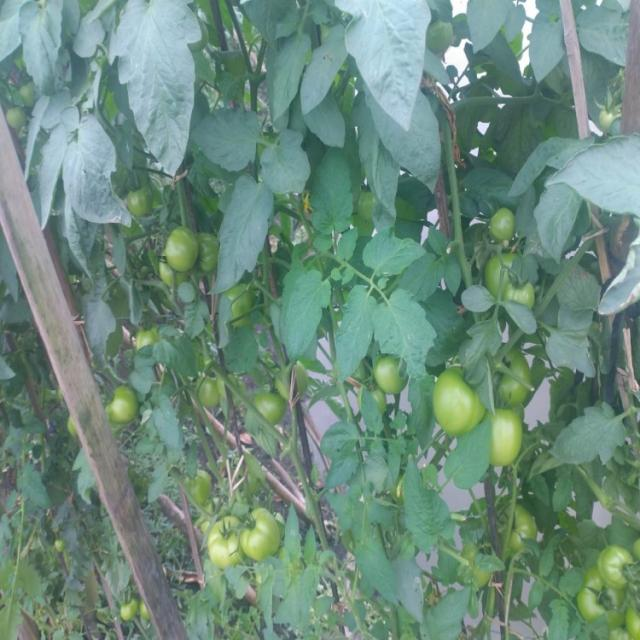tomato: (483, 246, 542, 302), (438, 368, 481, 435), (242, 505, 294, 559), (491, 344, 532, 399), (497, 500, 536, 557), (489, 402, 525, 456), (162, 223, 195, 280), (594, 541, 636, 583), (220, 283, 255, 330), (256, 393, 298, 432), (377, 351, 410, 398), (211, 516, 241, 564), (195, 224, 221, 277), (106, 388, 143, 421), (580, 584, 610, 619), (124, 183, 155, 216), (131, 326, 165, 355), (189, 469, 216, 505), (491, 209, 516, 242), (624, 592, 640, 640), (17, 80, 45, 107), (198, 376, 220, 407), (1, 109, 30, 131), (120, 595, 138, 622), (67, 417, 84, 442), (140, 602, 156, 624), (51, 537, 68, 557)
